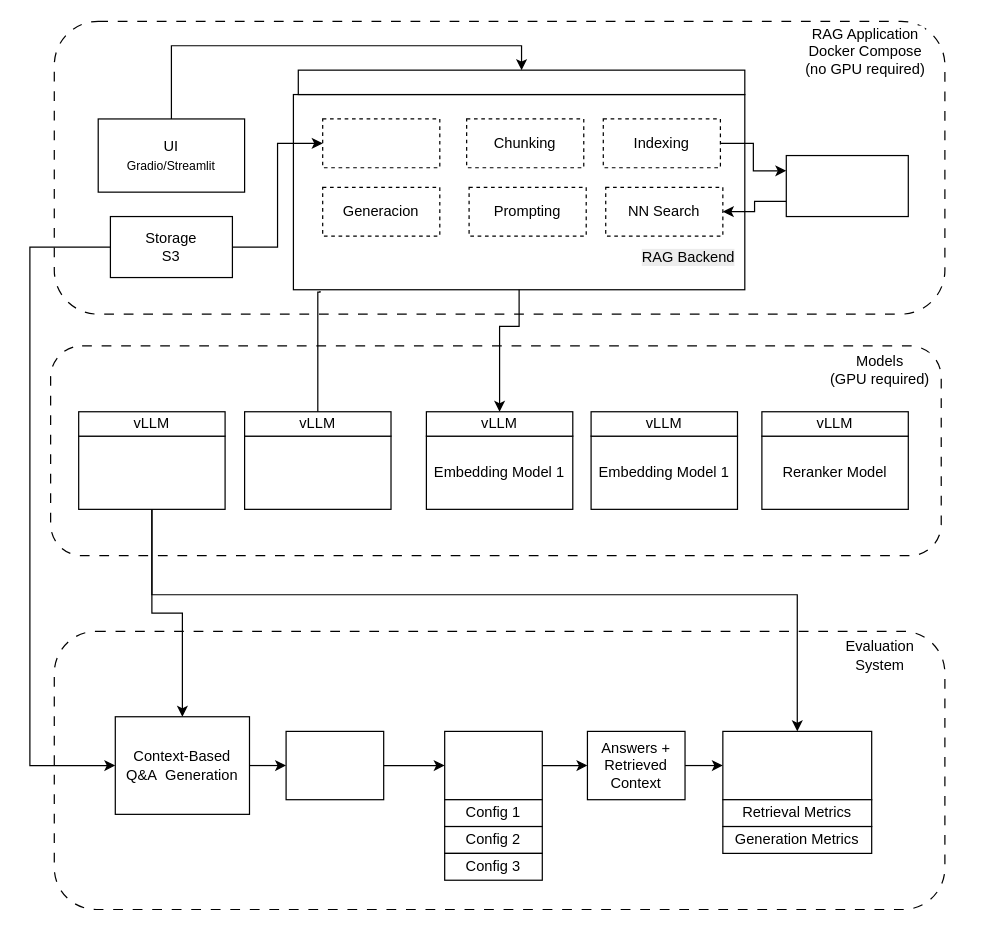
This 1003x931 diagram has some shape labels left out. The shapes that lost their labels are listed below. From the top down, each one's centre as x and y in pixels, then its label:
(521,82): API
(380,143): Parsing
(846,185): VDB Qdrant
(151,472): LLM 1
(317,472): LLM 2
(334,765): Evaluation Q&A Dataset
(492,765): RAG System
(797,765): Deep Eval/RAGAS Evaluation (LLM Judge)
